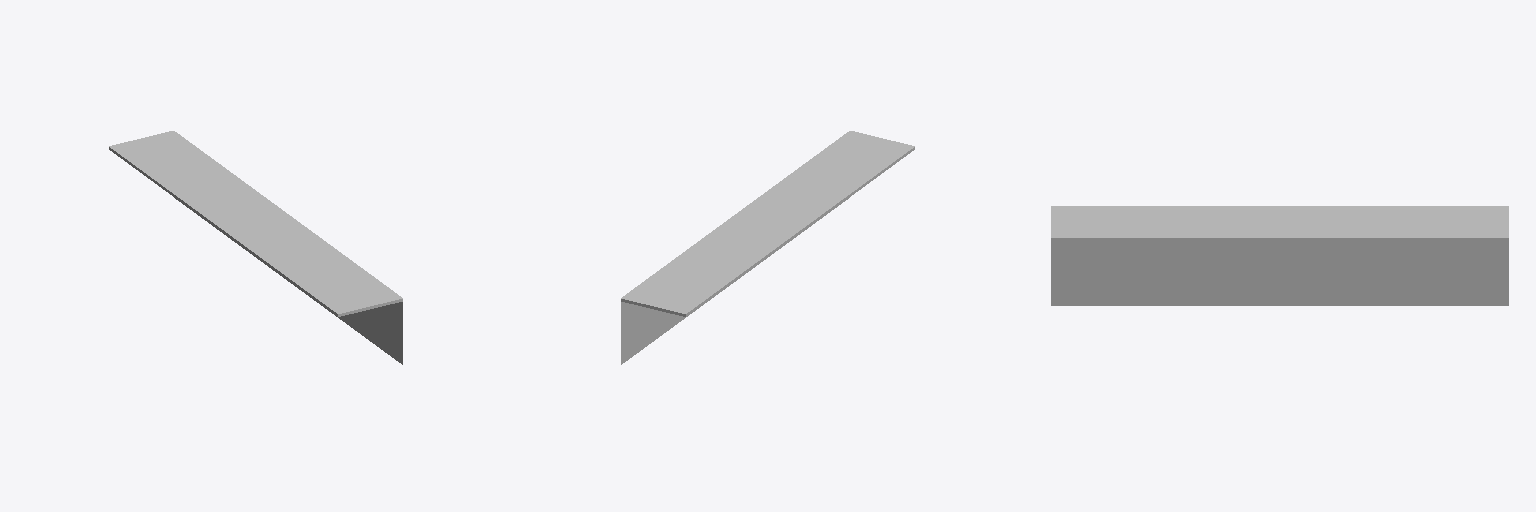
File: Wing_Table_Ground.obj
3 views of the same model, side by side, from view 1: azimuth 30°, elevation 25°; view 2: azimuth 150°, elevation 25°; view 3: azimuth 270°, elevation 25° (orthographic).
Parts seen in each view (by area): view 1: Wing_Table_Ground_Plane.000; view 2: Wing_Table_Ground_Plane.000; view 3: Wing_Table_Ground_Plane.000.
Part boxes in pixels (x1,y1,x2,y2): Wing_Table_Ground_Plane.000: (109, 131, 402, 364); Wing_Table_Ground_Plane.000: (621, 131, 914, 364); Wing_Table_Ground_Plane.000: (1051, 206, 1508, 305).
Bounding box in the file's own units: 1.17 × 1.15 × 7.12.